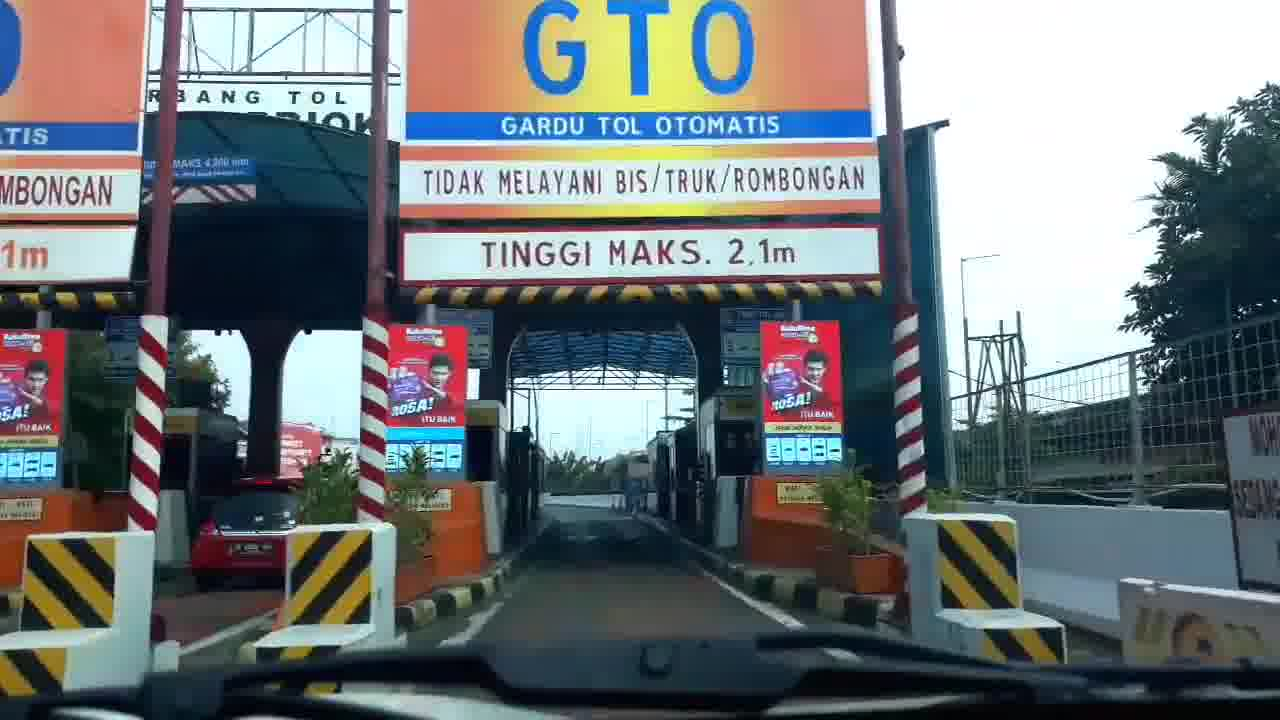plate_positive: (233, 542, 274, 556)
